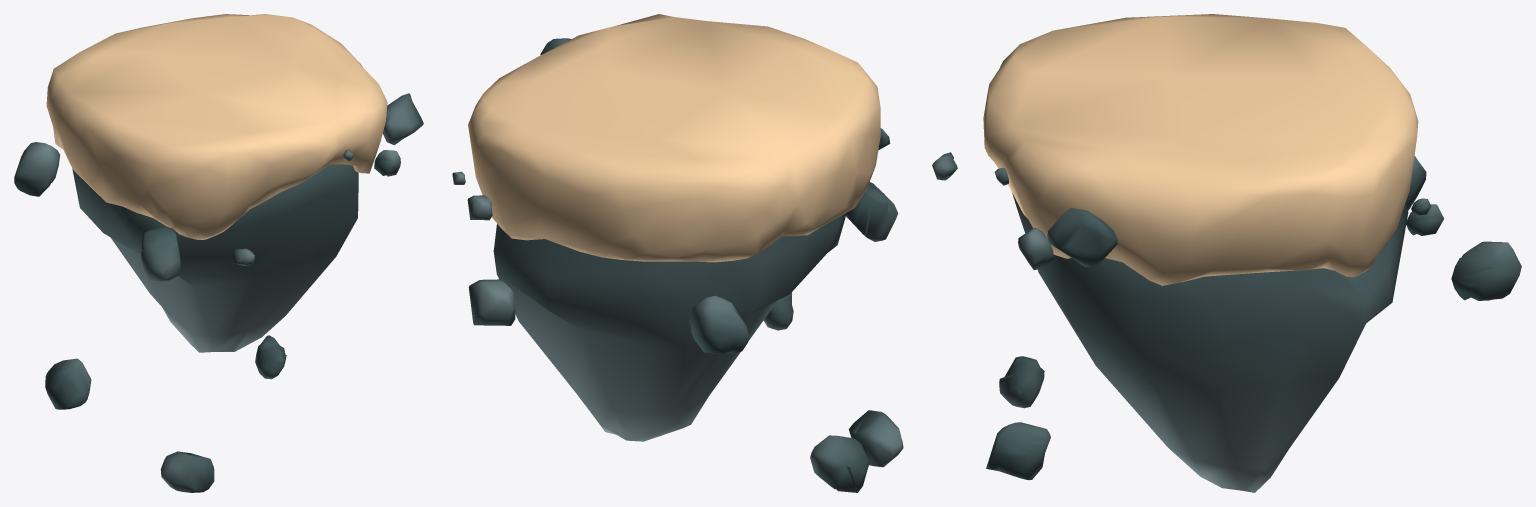
Rendered from Floating_Isle_01.fbx.
3 views of the same model, side by side, from view 1: azimuth 30°, elevation 25°; view 2: azimuth 150°, elevation 25°; view 3: azimuth 270°, elevation 25° (orthographic). The views are drawn at different scales.
Visible parts, largest first — view 1: Folliage_Floating_Rock1_0_1.026; view 2: Folliage_Floating_Rock1_0_1.026; view 3: Folliage_Floating_Rock1_0_1.026.
Part boxes in pixels (box(x1,y1,x2,y2)): Folliage_Floating_Rock1_0_1.026: box(14, 14, 423, 492); Folliage_Floating_Rock1_0_1.026: box(452, 14, 903, 492); Folliage_Floating_Rock1_0_1.026: box(932, 14, 1521, 492).
Size of the model in its own units: 1851 by 1860 by 2228.
